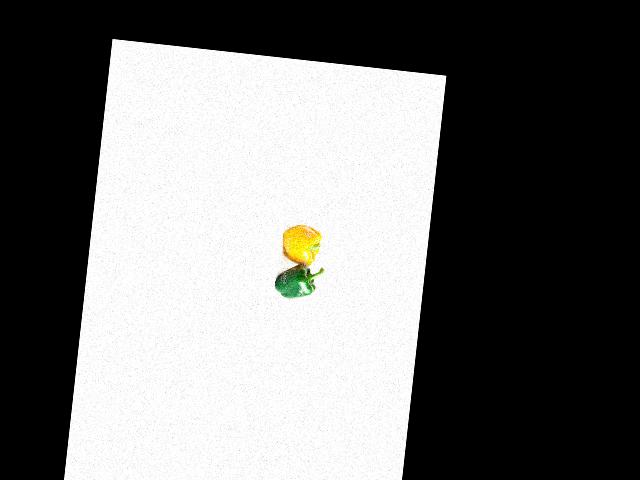bell_pepper: (267, 261, 320, 304)
